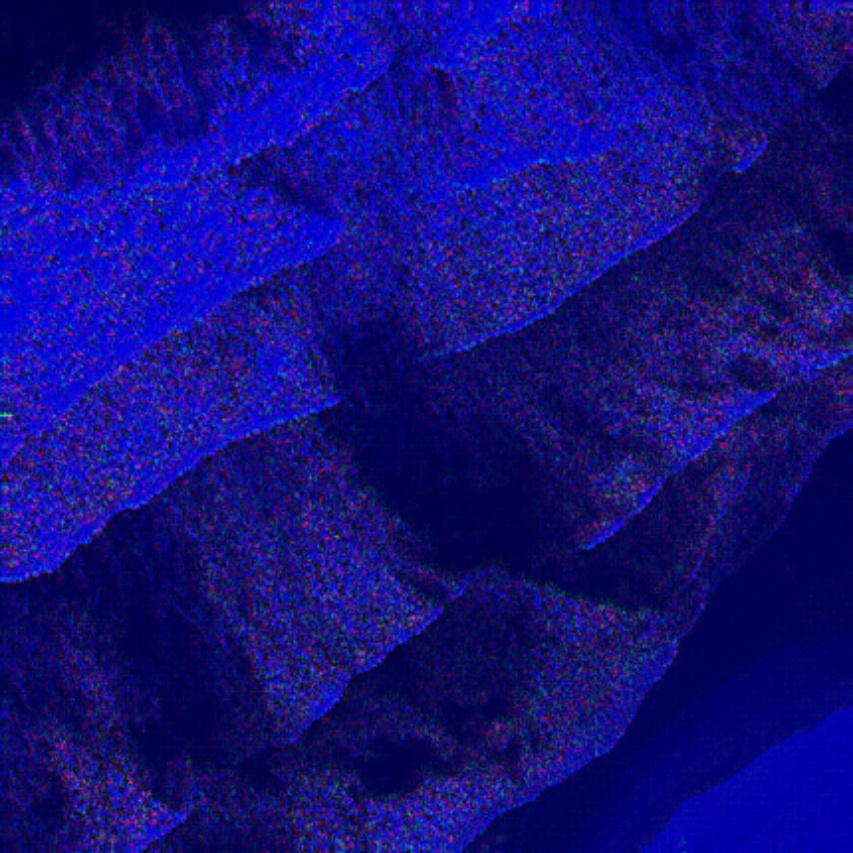rip_current: (207, 178, 683, 661)
